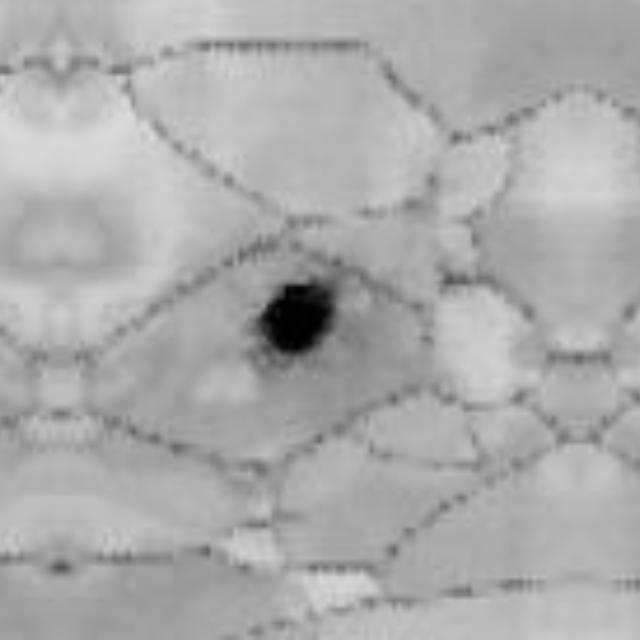good_void: (248, 273, 350, 364)
